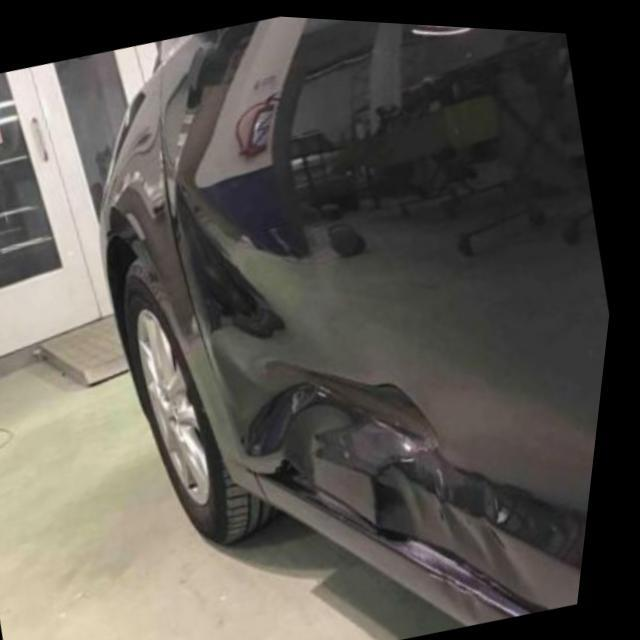dent: (249, 367, 529, 610)
